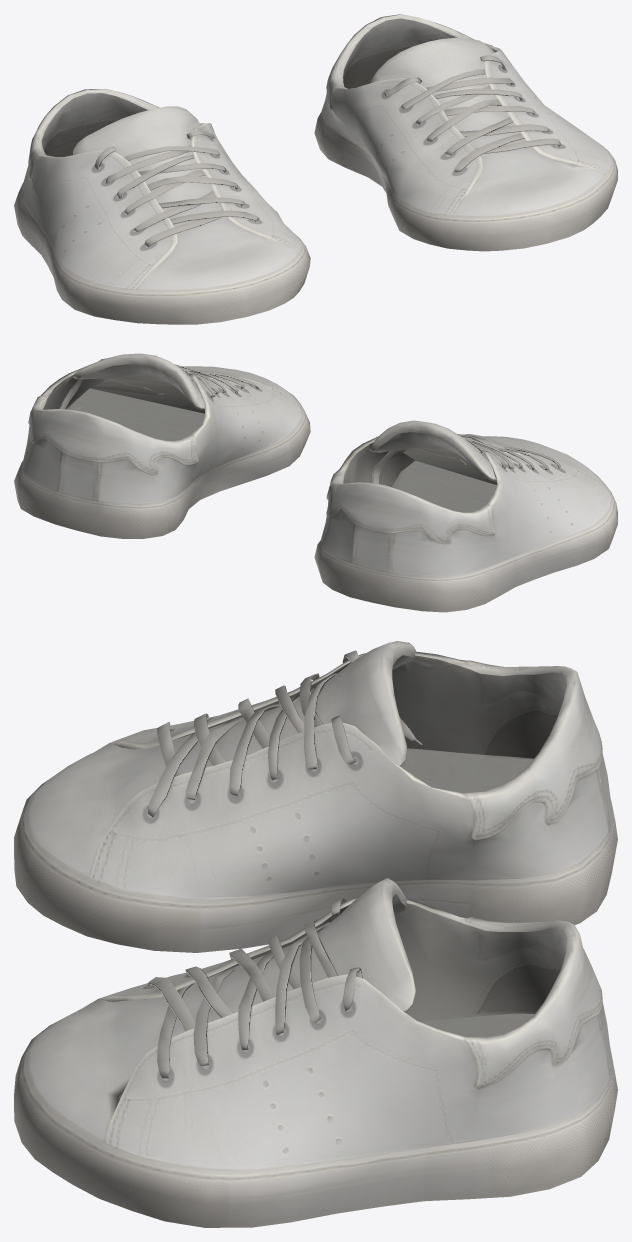
File: carlos_sneakers.glb
3 views of the same model, one above another, from view 1: azimuth 30°, elevation 25°; view 2: azimuth 150°, elevation 25°; view 3: azimuth 270°, elevation 25° (orthographic). The views are drawn at different scales.
Parts seen in each view (by area): view 1: Sport_sneakers.001; view 2: Sport_sneakers.001; view 3: Sport_sneakers.001.
Part boxes in pixels (left/top/right/bottom): Sport_sneakers.001: left=14, top=14, right=617, bottom=324; Sport_sneakers.001: left=14, top=353, right=617, bottom=612; Sport_sneakers.001: left=14, top=641, right=617, bottom=1227.
Size of the model in its own units: 0.5217 by 0.1226 by 0.2912.
Materials: 1 (1 with a texture image).
